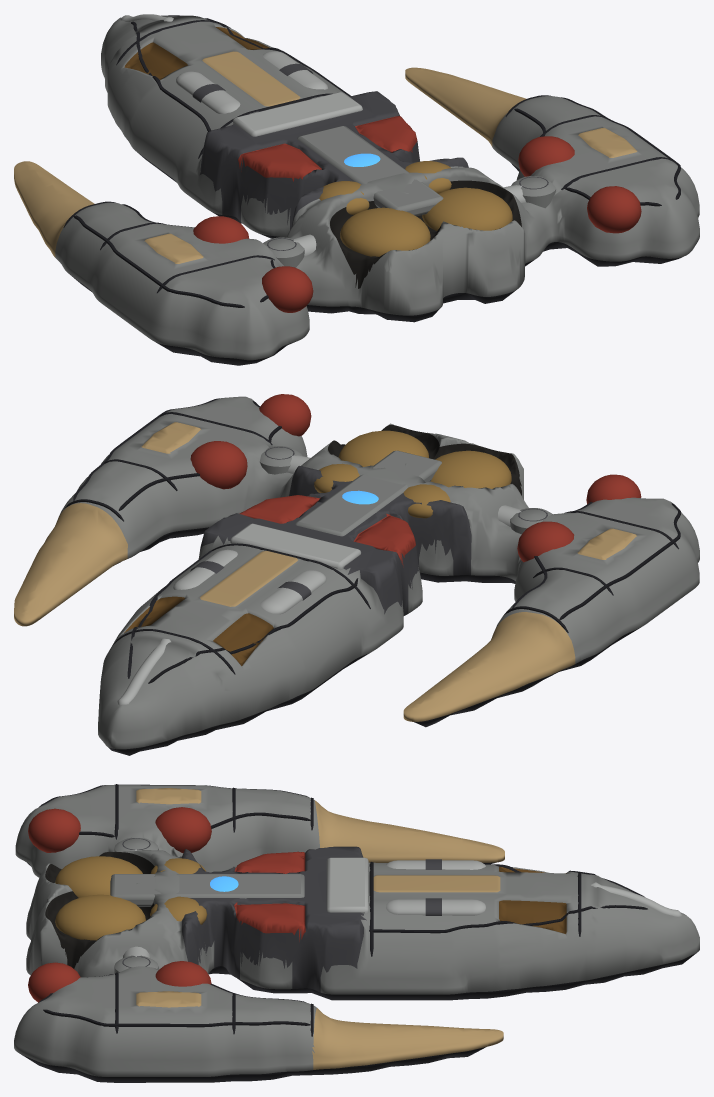
The model's file is store_ship_27.glb.
3 views of the same model, one above another, from view 1: azimuth 30°, elevation 25°; view 2: azimuth 150°, elevation 25°; view 3: azimuth 270°, elevation 25° (orthographic). The views are drawn at different scales.
Visible parts, largest first — view 1: hull, bay_column, lobe, lobe.001, chin, pod_ball.003, pod_ball.001, pod_ball.002, pod_ball, rail, arm_joint.001, arm_joint (+5 smaller); view 2: hull, bay_column, chin, lobe, pod_ball.002, lobe.001, pod_ball, pod_ball.003, rail, pod_ball.001, lobe_small, rail.001 (+6 smaller); view 3: hull, bay_column, lobe.001, chin, lobe, pod_ball, pod_ball.001, rail.001, pod_ball.003, pod_ball.002, seam_pod.001, seam_nose (+6 smaller).
Boxes of the visible parts, x1=… form: hull: x1=14, y1=15, x2=699, y2=365; bay_column: x1=297, y1=126, x2=443, y2=216; lobe: x1=340, y1=207, x2=430, y2=256; lobe.001: x1=422, y1=187, x2=512, y2=230; chin: x1=233, y1=92, x2=362, y2=136; pod_ball.003: x1=587, y1=186, x2=641, y2=233; pod_ball.001: x1=262, y1=266, x2=313, y2=312; pod_ball.002: x1=518, y1=136, x2=574, y2=176; pod_ball: x1=193, y1=216, x2=249, y2=243; rail: x1=176, y1=71, x2=240, y2=113; arm_joint.001: x1=511, y1=176, x2=555, y2=208; arm_joint: x1=263, y1=237, x2=304, y2=267; hull: x1=14, y1=396, x2=699, y2=755; bay_column: x1=295, y1=450, x2=441, y2=536; chin: x1=230, y1=523, x2=361, y2=570; lobe: x1=430, y1=450, x2=511, y2=488; pod_ball.002: x1=190, y1=441, x2=247, y2=489; lobe.001: x1=338, y1=430, x2=428, y2=466; pod_ball: x1=517, y1=521, x2=574, y2=562; pod_ball.003: x1=259, y1=394, x2=311, y2=436; rail: x1=260, y1=570, x2=326, y2=614; pod_ball.001: x1=586, y1=474, x2=641, y2=504; lobe_small: x1=403, y1=484, x2=450, y2=518; rail.001: x1=173, y1=549, x2=237, y2=589; hull: x1=14, y1=785, x2=699, y2=1082; bay_column: x1=110, y1=874, x2=304, y2=906; lobe.001: x1=55, y1=894, x2=145, y2=940; chin: x1=326, y1=857, x2=368, y2=914; lobe: x1=55, y1=856, x2=142, y2=897; pod_ball: x1=155, y1=807, x2=211, y2=853; pod_ball.001: x1=28, y1=808, x2=80, y2=852; rail.001: x1=386, y1=899, x2=485, y2=915; pod_ball.003: x1=28, y1=962, x2=80, y2=1002; pod_ball.002: x1=155, y1=961, x2=211, y2=986; seam_pod.001: x1=43, y1=1009, x2=310, y2=1027; seam_nose: x1=369, y1=905, x2=647, y2=933.
Size of the model in its own units: 92.97 by 14.15 by 106.
